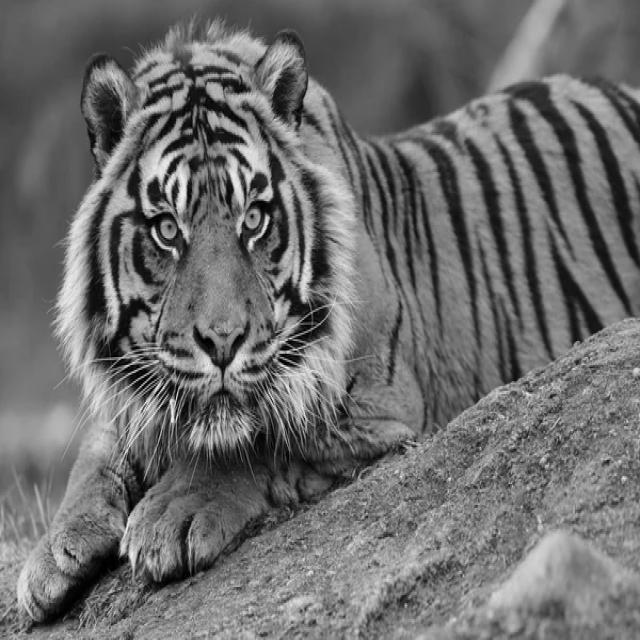Animal: (17, 24, 640, 622)
